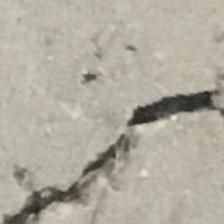Crack: (16, 79, 224, 224)
